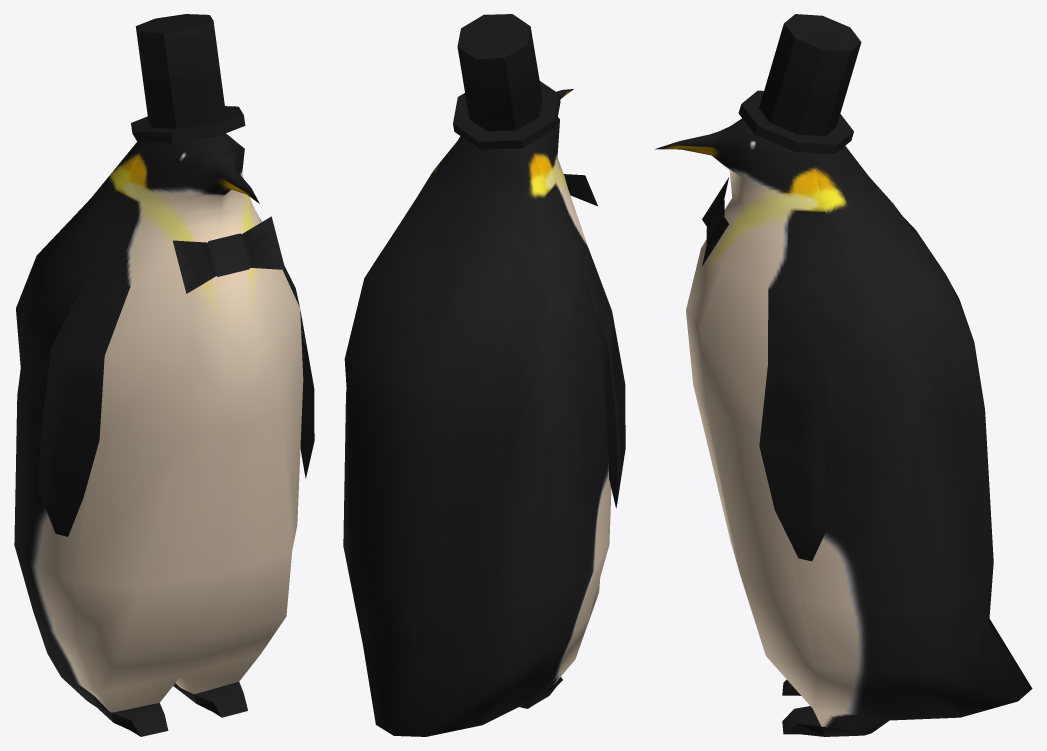
The model's file is Low_Poly_Penguin.glb.
The picture shows the model from 3 angles, left to right: view 1: azimuth 30°, elevation 25°; view 2: azimuth 150°, elevation 25°; view 3: azimuth 270°, elevation 25°; orthographic projection. The views are drawn at different scales.
Parts seen in each view (by area): view 1: polySurface3_lambert2_0; view 2: polySurface3_lambert2_0; view 3: polySurface3_lambert2_0.
Boxes of the visible parts, left/top/right/bottom form: polySurface3_lambert2_0: left=14, top=14, right=314, bottom=736; polySurface3_lambert2_0: left=343, top=14, right=625, bottom=736; polySurface3_lambert2_0: left=655, top=14, right=1032, bottom=736.
Size of the model in its own units: 18.85 by 46.64 by 23.33.
Materials: 1 (1 with a texture image).
